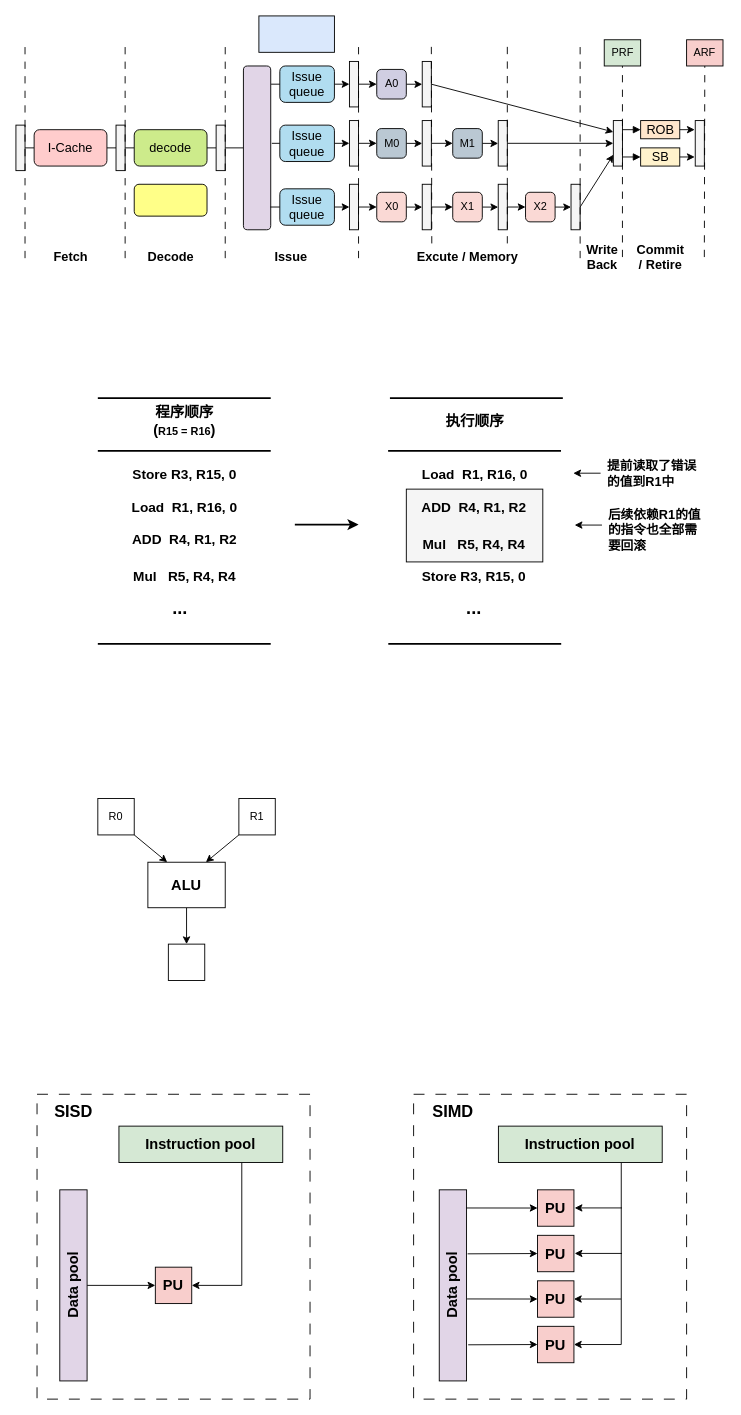
Some shapes in this 741 by 1415 pixel diagram are drawn without their labels. Here are the shapes that lost their labels. From the top down, the centre of each, then its label:
[296,33]: Scoreboard
[257,147]: Issue logic
[170,199]: register renameing
[186,962]: R3
